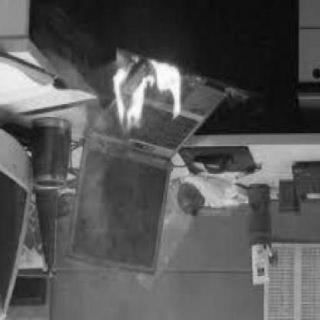Fire: (89, 50, 193, 142)
